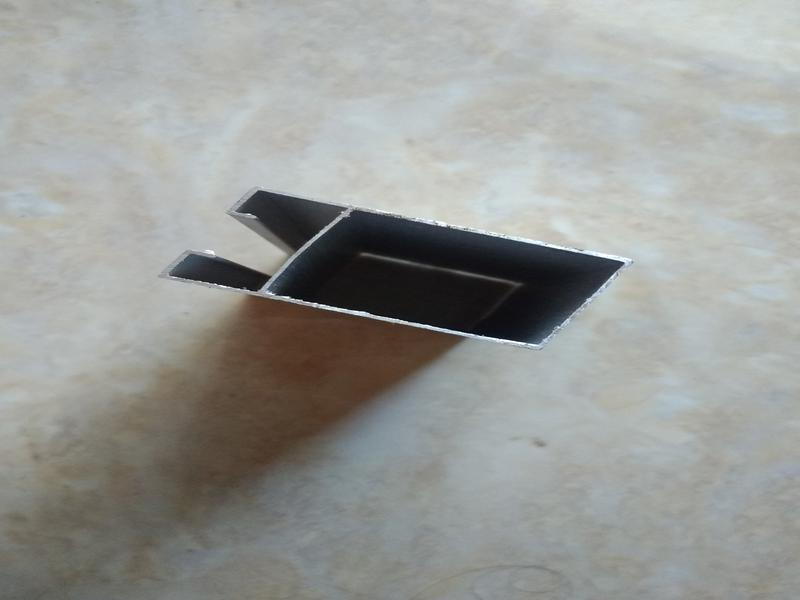Aluminium_1: (156, 146, 646, 394)
